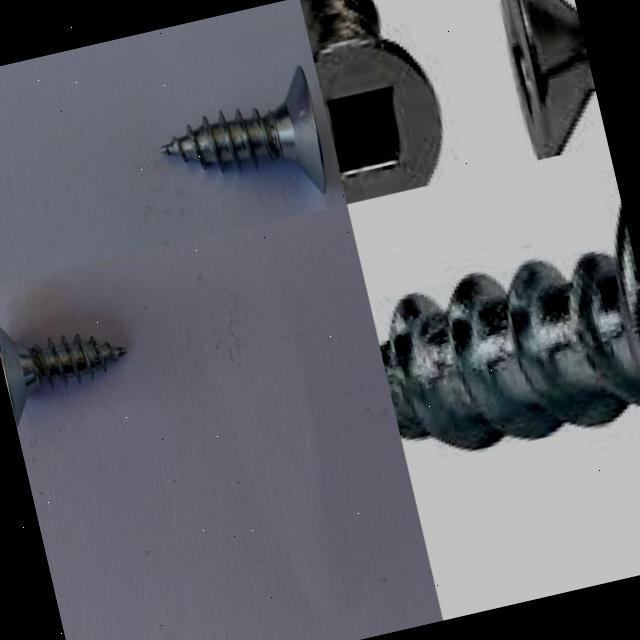Screw: (378, 215, 640, 454), (300, 0, 447, 204), (161, 64, 326, 191), (501, 0, 596, 159), (0, 325, 126, 423)
